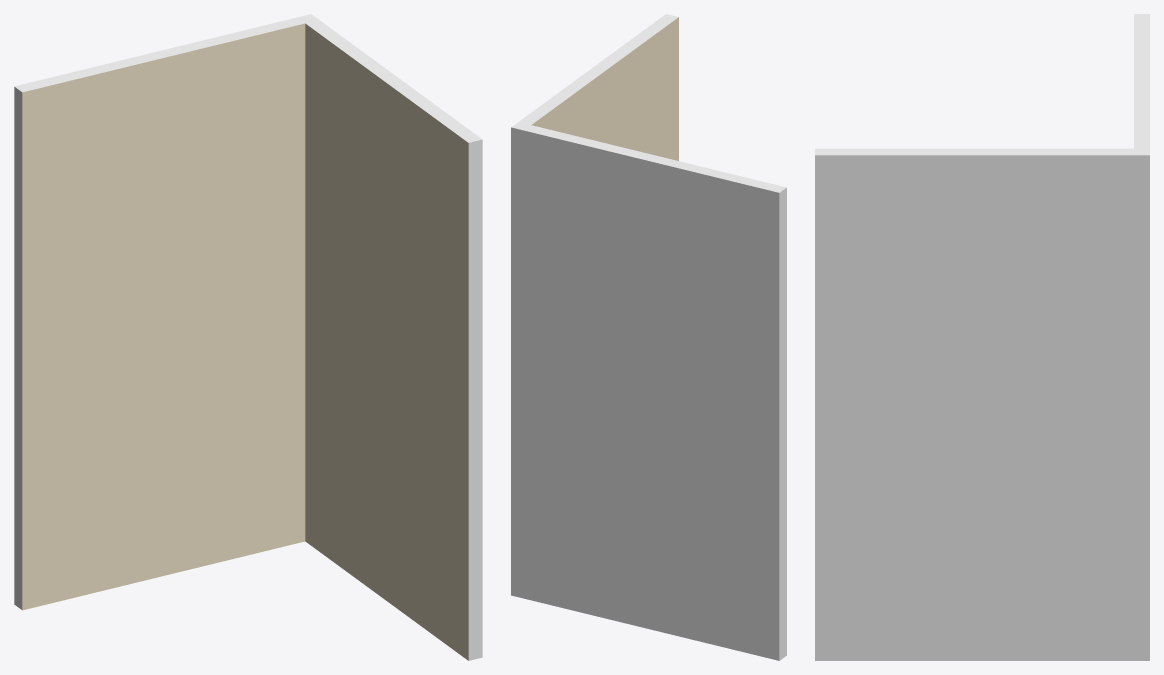
The model's file is Prop_WallCornor_01.fbx.
3 renders of one model, left to right at view 1: azimuth 30°, elevation 25°; view 2: azimuth 150°, elevation 25°; view 3: azimuth 270°, elevation 25°, orthographic. The views are drawn at different scales.
Parts seen in each view (by area): view 1: Prop_WallCornor_01; view 2: Prop_WallCornor_01; view 3: Prop_WallCornor_01.
Boxes of the visible parts, bbox=[...] form: Prop_WallCornor_01: bbox=[14, 14, 482, 660]; Prop_WallCornor_01: bbox=[511, 14, 786, 660]; Prop_WallCornor_01: bbox=[815, 14, 1149, 660].
Bounding box in the file's own units: 210 × 350 × 210.
